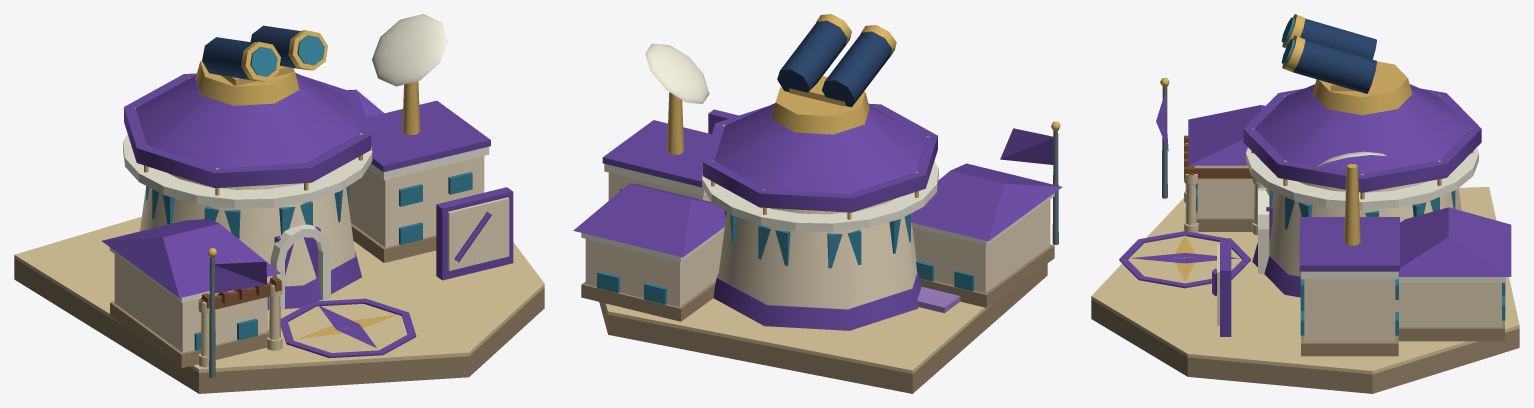
File: scout-center-lv4.glb
The picture shows the model from 3 angles, left to right: view 1: azimuth 30°, elevation 25°; view 2: azimuth 150°, elevation 25°; view 3: azimuth 270°, elevation 25°; orthographic projection. The views are drawn at different scales.
Visible parts, largest first — view 1: foundation_sand, faceted_roof_violet, foundation_stoneDark, octagonal_office_cream, observation_eave_violet, archive_wing_roof_violet, communications_cream, archive_wing_cream, communications_roof_violet, observation_balcony_white, dish_white, map_board_cream (+22 smaller); view 2: octagonal_office_cream, faceted_roof_violet, foundation_sand, foundation_stoneDark, analysis_wing_roof_violet, archive_wing_roof_violet, observation_eave_violet, archive_wing_cream, roof_binoculars_naval, analysis_wing_cream, office_plinth_violet, observation_balcony_white (+18 smaller); view 3: foundation_sand, faceted_roof_violet, foundation_stoneDark, analysis_wing_roof_violet, communications_cream, observation_eave_violet, communications_roof_violet, analysis_wing_cream, observation_balcony_white, roof_binoculars_naval, octagonal_office_cream, archive_wing_roof_violet (+19 smaller).
Boxes of the visible parts, x1,y1,x2,y2 form: foundation_sand: (14, 216, 544, 372); faceted_roof_violet: (136, 73, 359, 168); foundation_stoneDark: (14, 258, 544, 393); octagonal_office_cream: (140, 173, 355, 286); observation_eave_violet: (124, 73, 371, 187); archive_wing_roof_violet: (102, 219, 280, 297); communications_cream: (349, 156, 484, 247); archive_wing_cream: (114, 254, 267, 352); communications_roof_violet: (366, 100, 490, 172); observation_balcony_white: (123, 134, 372, 208); dish_white: (372, 14, 447, 86); map_board_cream: (447, 197, 509, 270); octagonal_office_cream: (718, 198, 917, 309); faceted_roof_violet: (714, 103, 926, 193); foundation_sand: (605, 298, 991, 373); foundation_stoneDark: (599, 263, 1047, 393); analysis_wing_roof_violet: (573, 183, 725, 257); archive_wing_roof_violet: (911, 163, 1062, 241); observation_eave_violet: (703, 103, 937, 212); archive_wing_cream: (912, 199, 1050, 293); roof_binoculars_naval: (777, 21, 891, 107); analysis_wing_cream: (585, 230, 724, 306); office_plinth_violet: (713, 272, 921, 330); observation_balcony_white: (702, 161, 938, 231); foundation_sand: (1091, 187, 1519, 374); faceted_roof_violet: (1255, 84, 1469, 173); foundation_stoneDark: (1091, 299, 1519, 393); analysis_wing_roof_violet: (1398, 207, 1511, 276); communications_cream: (1304, 279, 1395, 342); observation_eave_violet: (1243, 88, 1481, 192); communications_roof_violet: (1299, 217, 1399, 271); analysis_wing_cream: (1395, 282, 1501, 327); observation_balcony_white: (1246, 147, 1478, 209); roof_binoculars_naval: (1293, 18, 1376, 93); octagonal_office_cream: (1266, 181, 1461, 276); archive_wing_roof_violet: (1188, 105, 1265, 165).
Bounding box in the file's own units: 1 × 0.6559 × 0.9826.
